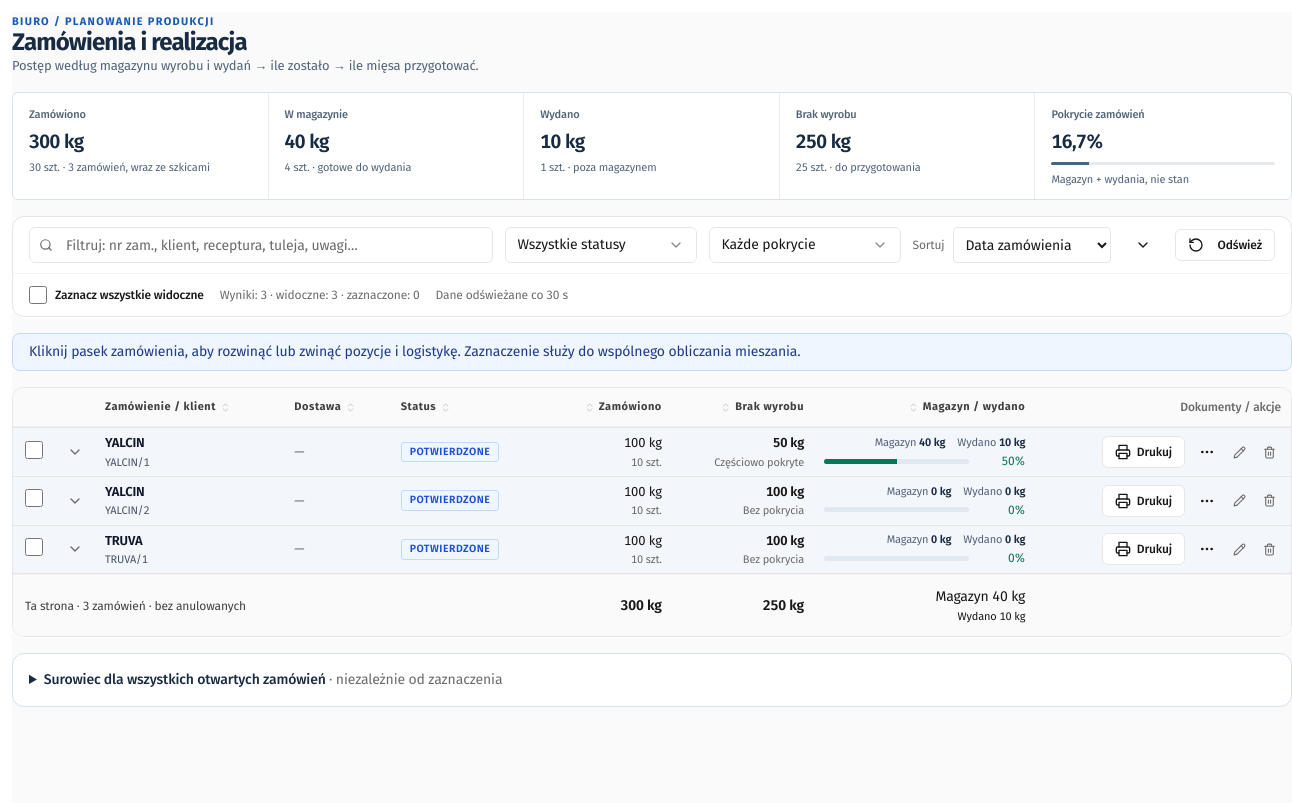
Test case: ClientOrdersPage — zaznaczanie i planowanie › domyślnie pokazuje tylko pasek, po rozwinięciu wszystkie dane pozycji; druk pozostaje na pasku
The image size is (1292, 803).
Expected: the button with aria-label "Drukuj YALCIN/1" is shown, [1102,436,1185,468]
Click the button named "Szczegóły YALCIN/1". click: [75, 452]
box: [59,436,91,468]
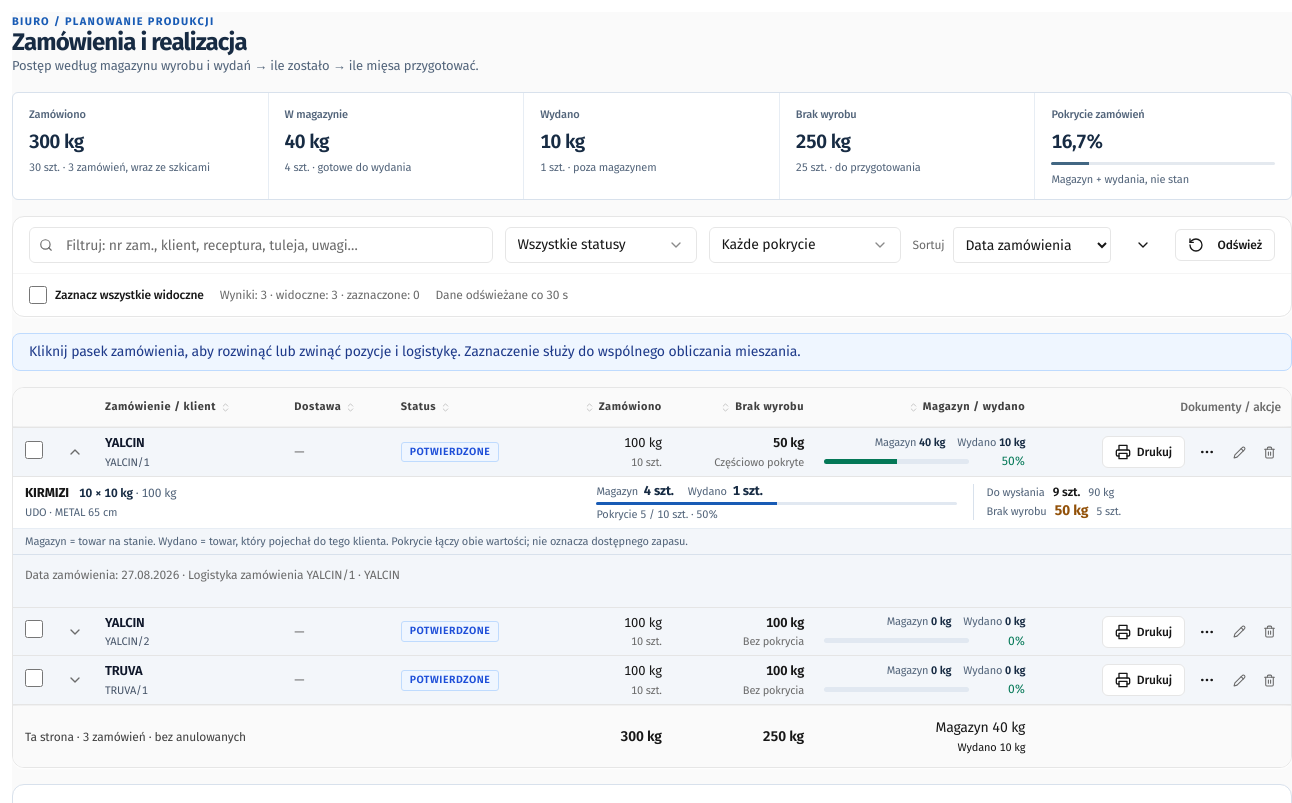
Expected: the element with class "order-production" shows "5 / 10 szt.", [596,508,718,521]
Expected: the text "50 kg" is shown, [1055,501,1088,520]
Expected: the element named "Pozycje YALCIN/1" shows "METAL 65 cm", [55,506,117,519]
